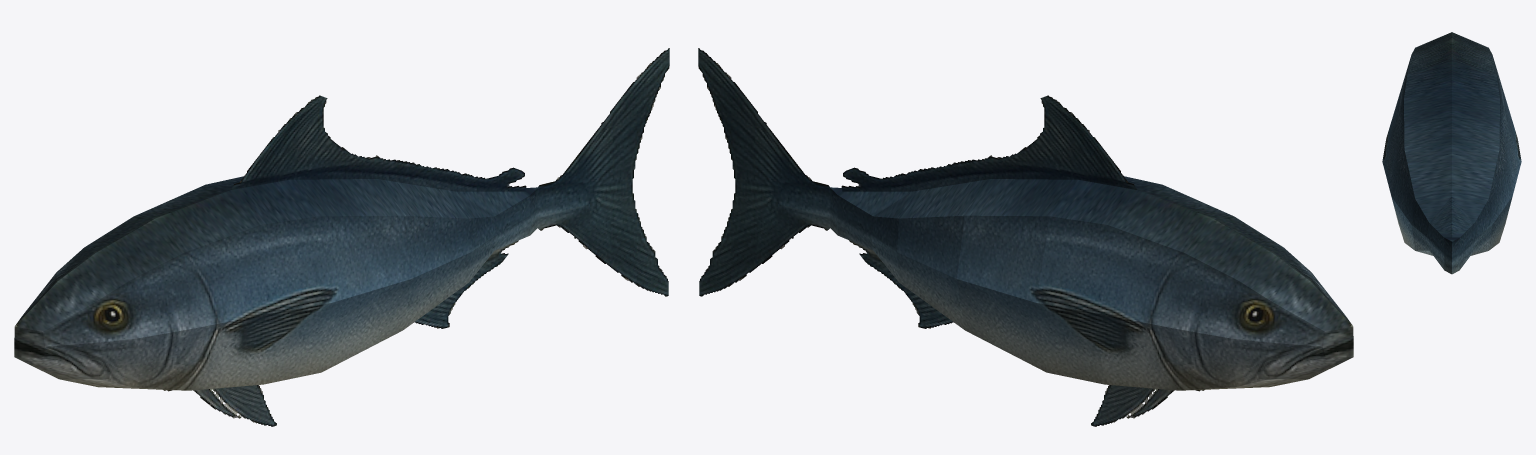
File: Tuna.fbx
3 renders of one model, left to right at view 1: azimuth 30°, elevation 25°; view 2: azimuth 150°, elevation 25°; view 3: azimuth 270°, elevation 25°, orthographic. The views are drawn at different scales.
Parts seen in each view (by area): view 1: Tuna; view 2: Tuna; view 3: Tuna.
Boxes of the visible parts, x1,y1,x2,y2 form: Tuna: (14, 48, 669, 426); Tuna: (698, 48, 1353, 426); Tuna: (1382, 32, 1521, 274).
Bounding box in the file's own units: 179 × 90.23 × 40.63.
